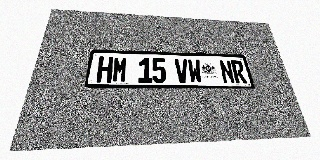1: (138, 58, 152, 83)
5: (152, 58, 166, 83)
H: (96, 56, 113, 83)
M: (112, 57, 128, 83)
N: (219, 60, 235, 83)
R: (230, 60, 248, 83)
V: (174, 59, 189, 83)
W: (187, 59, 203, 83)
